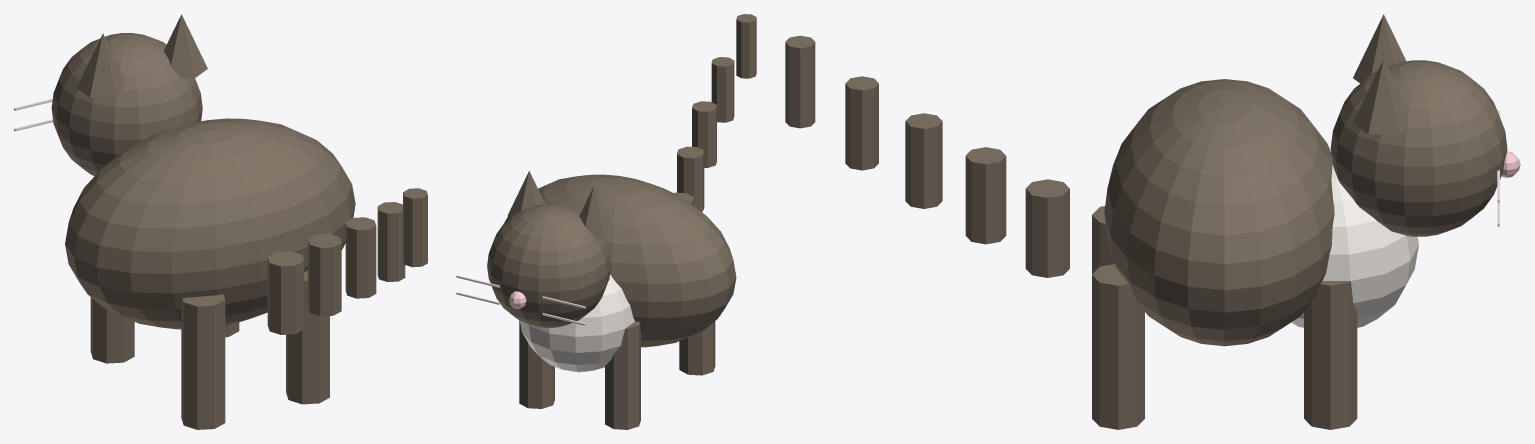
Rendered from cat.glb.
3 views of the same model, side by side, from view 1: azimuth 30°, elevation 25°; view 2: azimuth 150°, elevation 25°; view 3: azimuth 270°, elevation 25° (orthographic). The views are drawn at different scales.
Visible parts, largest first — view 1: cat; view 2: cat; view 3: cat.
Part boxes in pixels (bbox=[...]): cat: bbox=[14, 14, 427, 429]; cat: bbox=[456, 14, 756, 429]; cat: bbox=[785, 14, 1520, 429].
Size of the model in its own units: 0.416 by 0.45 by 0.832.
